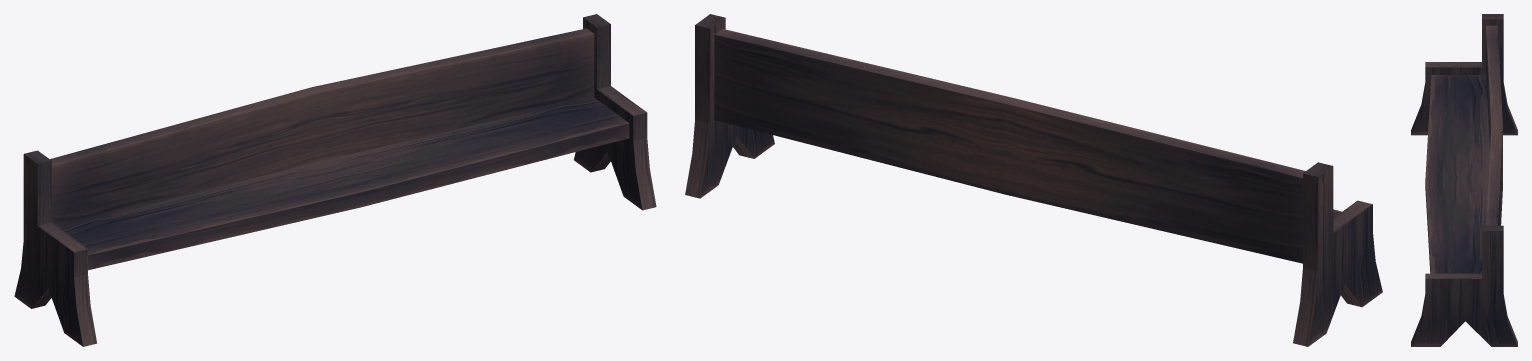
The model's file is Bench_01.fbx.
3 views of the same model, side by side, from view 1: azimuth 30°, elevation 25°; view 2: azimuth 150°, elevation 25°; view 3: azimuth 270°, elevation 25° (orthographic). The views are drawn at different scales.
Visible parts, largest first — view 1: Bench_01; view 2: Bench_01; view 3: Bench_01.
Part boxes in pixels (bbox=[...]): Bench_01: bbox=[14, 14, 656, 346]; Bench_01: bbox=[685, 14, 1382, 346]; Bench_01: bbox=[1411, 14, 1517, 346].
Bounding box in the file's own units: 0.9399 × 0.2342 × 0.1954.
